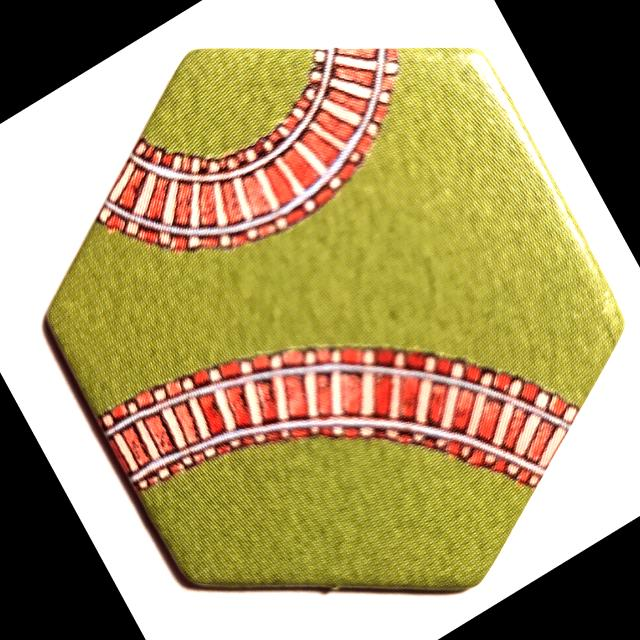15_5: (44, 46, 624, 592)
